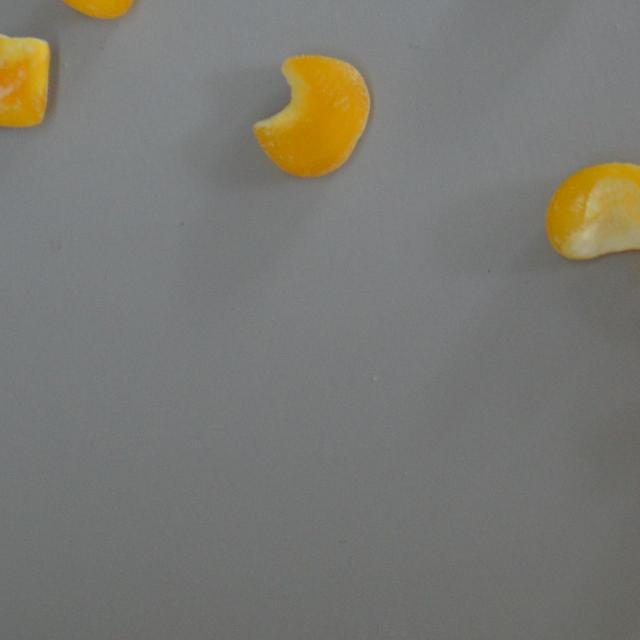no_canjicado: (48, 0, 140, 23)
no_desgerminado: (544, 160, 640, 262)
pelicula: (252, 52, 372, 178), (0, 30, 52, 129)
